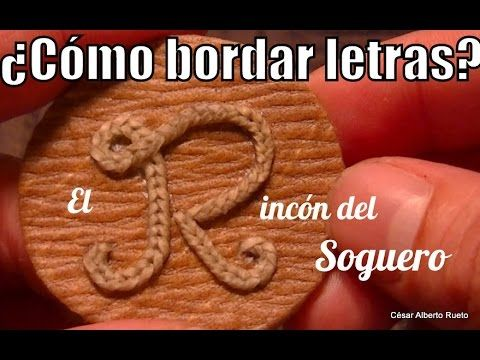cuero: (18, 34, 347, 330)
